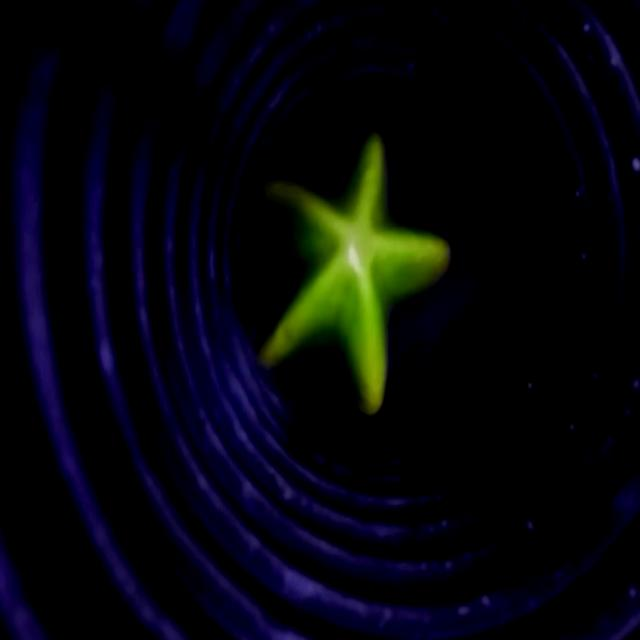obstacles: (251, 138, 451, 414)
